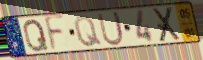4: (134, 8, 154, 45)
F: (43, 13, 66, 54)
Q: (73, 14, 104, 49), (22, 18, 50, 53)
U: (96, 10, 125, 47)
X: (152, 6, 183, 44)
